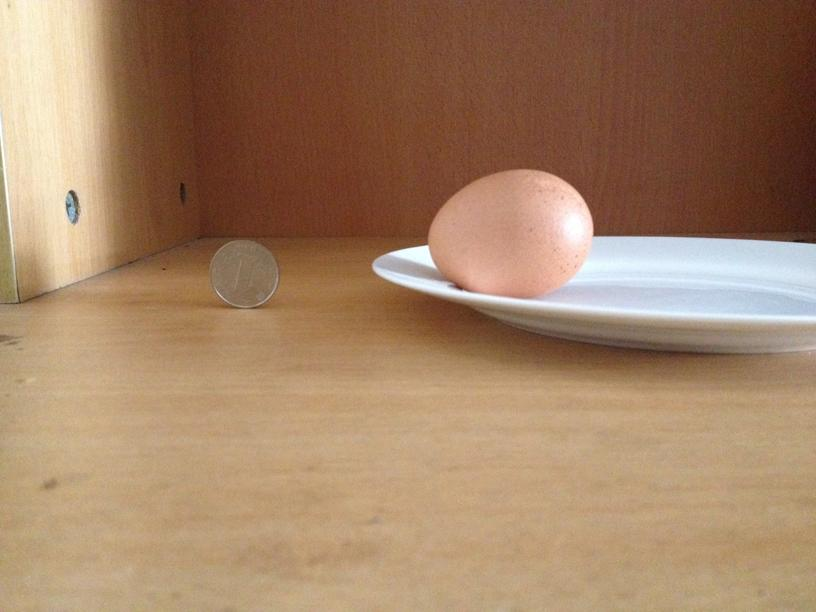coin: (204, 237, 281, 307)
egg: (424, 167, 593, 299)
